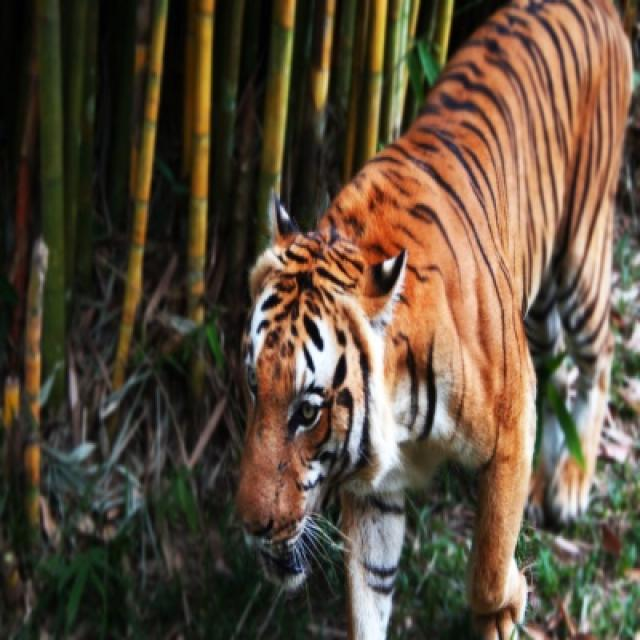Tiger: (237, 0, 632, 638)
